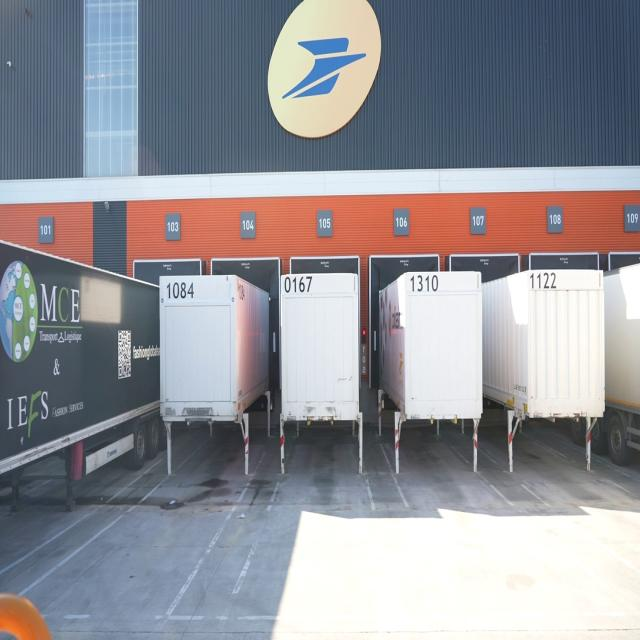Code: (279, 271, 314, 298), (165, 278, 196, 303), (527, 268, 559, 292), (408, 272, 440, 294)
